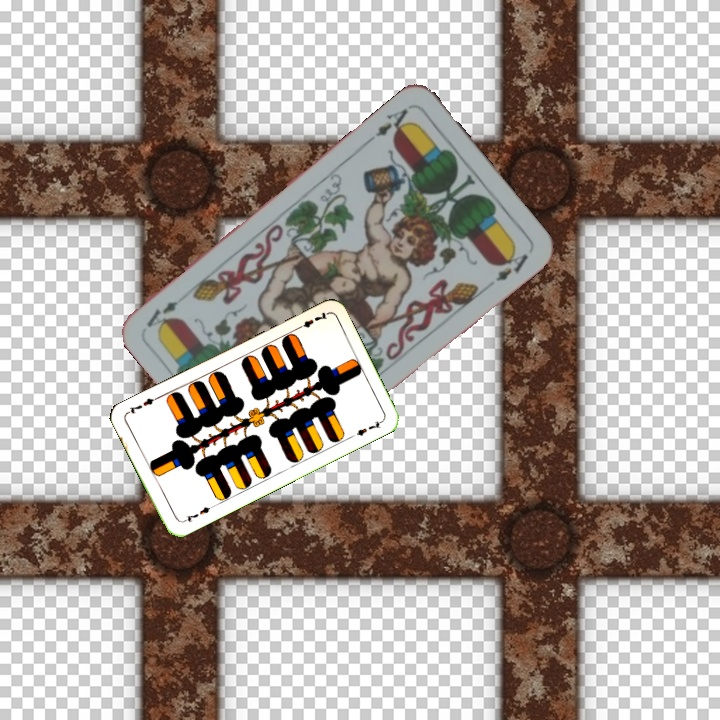E7: (292, 308, 330, 333), (178, 502, 216, 526)
EA: (371, 105, 414, 141)
